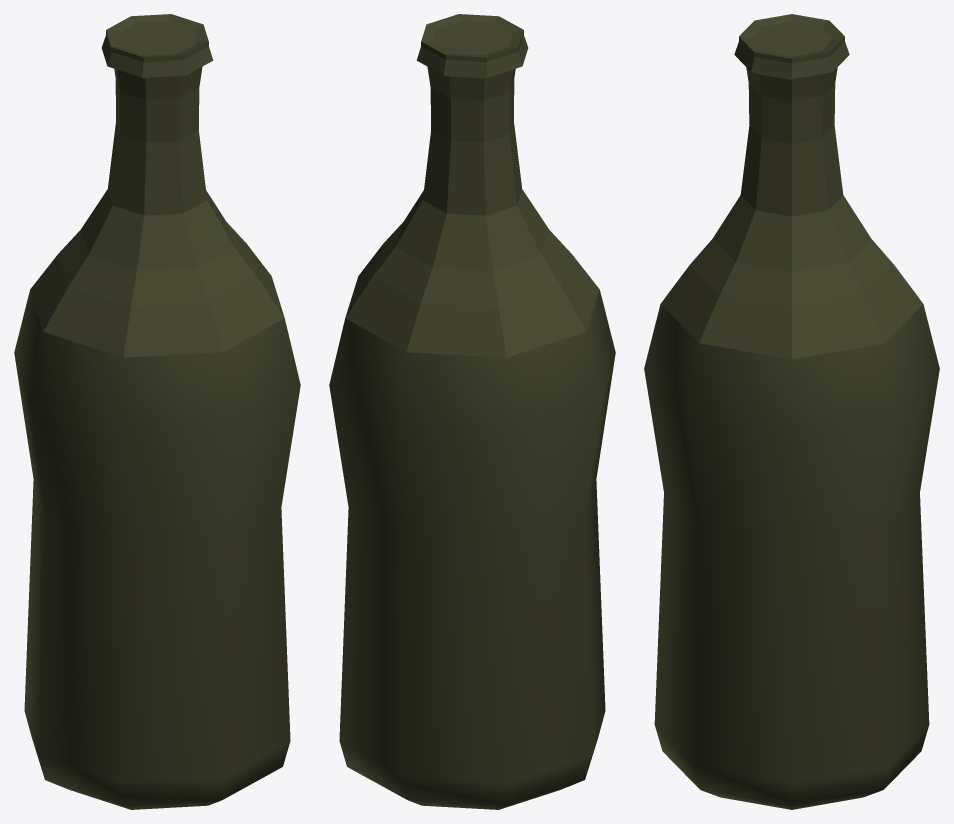
The model's file is SM_beer_glass_02.fbx.
3 renders of one model, left to right at view 1: azimuth 30°, elevation 25°; view 2: azimuth 150°, elevation 25°; view 3: azimuth 270°, elevation 25°, orthographic.
Parts seen in each view (by area): view 1: beer_glass_02; view 2: beer_glass_02; view 3: beer_glass_02.
Boxes of the visible parts, x1,y1,x2,y2 form: beer_glass_02: (14, 14, 300, 809); beer_glass_02: (329, 14, 615, 809); beer_glass_02: (644, 14, 939, 809).
Bounding box in the file's own units: 21.14 × 57.64 × 21.14.
